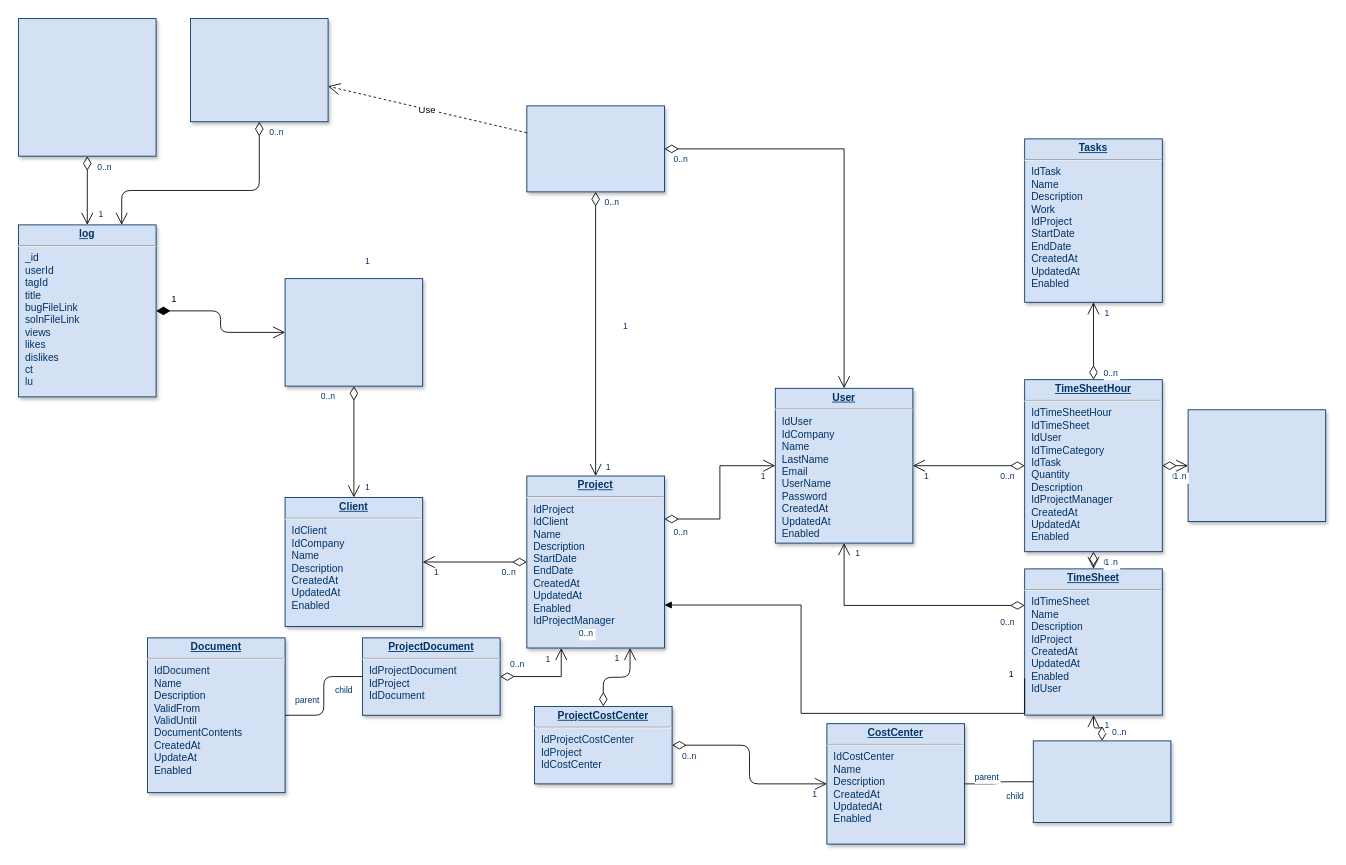
Image size: 1346x865. Some labels were removed from this diagram. Each missing label, with the centre of its shape:
"Company Name Description CreatedAt UpdatedAt Enabled" goes at point 354,333.
"tag _id name description" goes at point 259,71.
"TimeCategory IdTimeCategory Name Description CreatedAt UpdatedAt Enabled" goes at point 1257,466.
"TimeSheetCostCenter IdTimeSheetCostCenter IdTimeSheet IdCostCenter" goes at point 1102,783.
"user _id name email dpLink country dob gender ct" goes at point 87,88.
"UserProjectRole IdUserProjectRole IdRole IdProject IdUser" goes at point 596,150.
